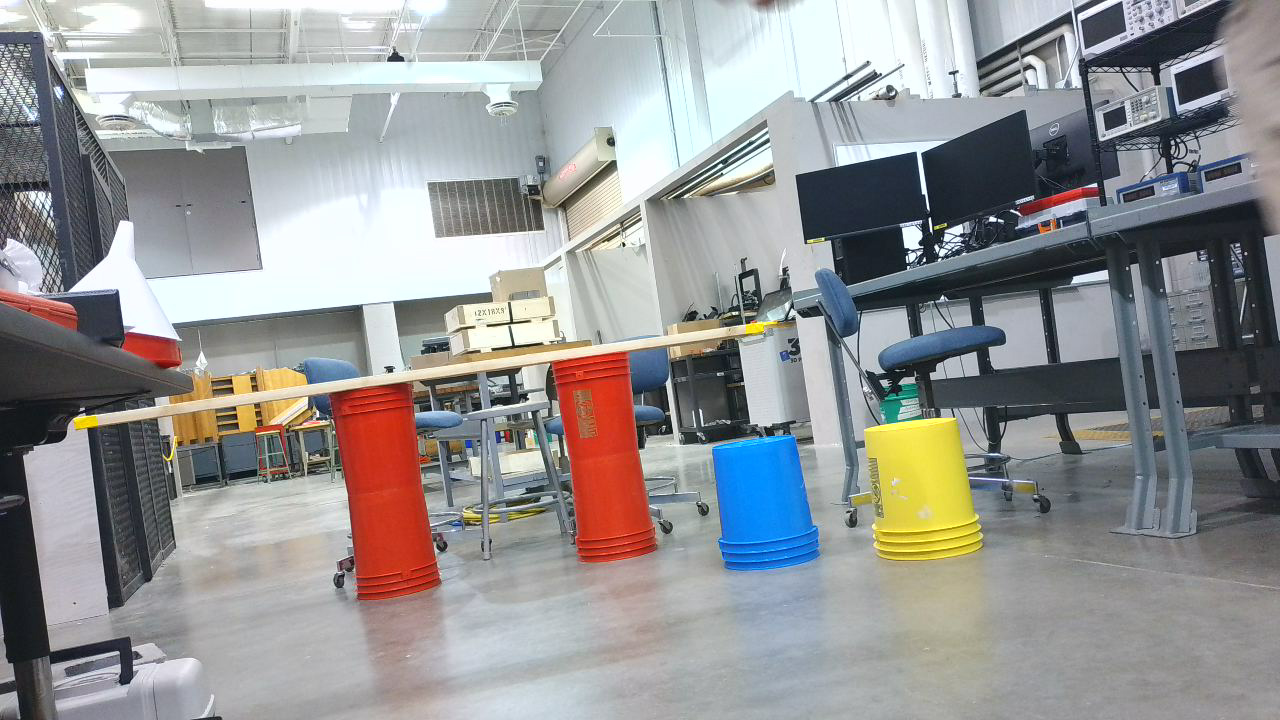blue_bucket: (712, 435, 830, 579)
red_bucket_arch: (330, 349, 669, 611)
yellow_bucket: (863, 418, 995, 569)
